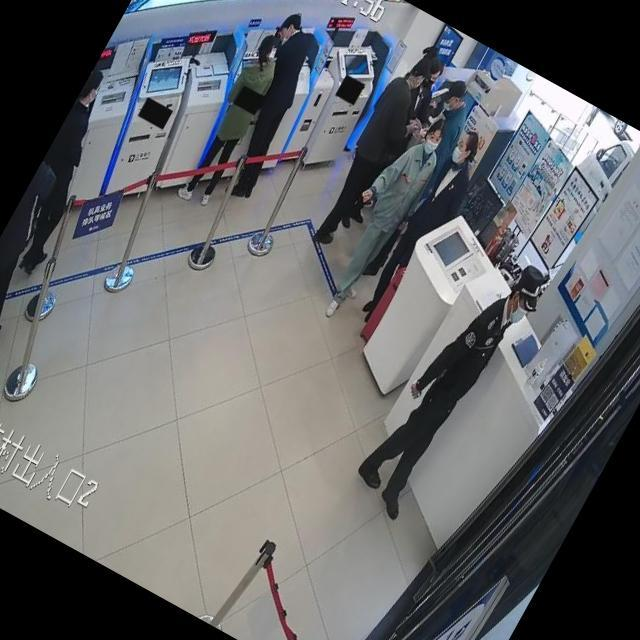person: (345, 236, 554, 529), (304, 104, 458, 328), (352, 125, 496, 342), (303, 45, 448, 258), (348, 78, 487, 290), (0, 68, 139, 279), (195, 8, 340, 205), (196, 14, 338, 208), (0, 133, 98, 358), (175, 30, 296, 210), (381, 52, 462, 164), (388, 52, 462, 152), (421, 77, 484, 154), (405, 38, 443, 88)
